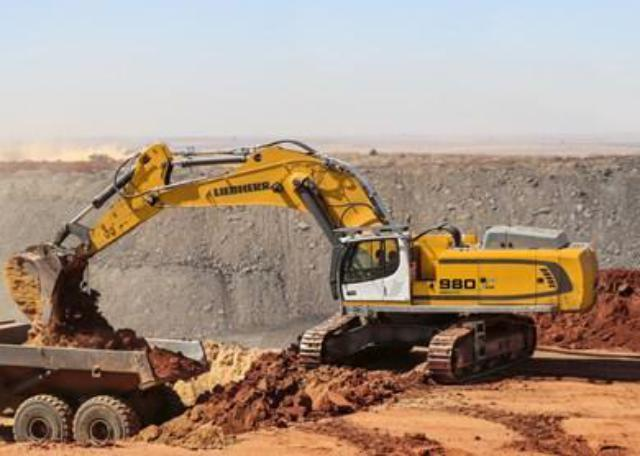excavator: (23, 141, 598, 351)
